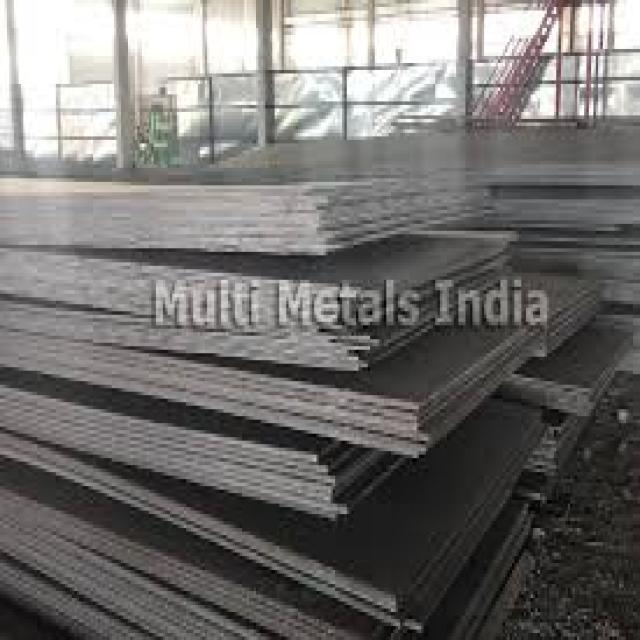Dry: (0, 157, 640, 640)
